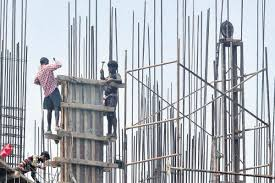arm: (45, 56, 63, 74)
glove: (51, 55, 63, 67)
helmet: (38, 55, 50, 66)
human: (32, 53, 64, 135)
leg: (43, 107, 54, 134)
novest: (36, 65, 58, 93)
